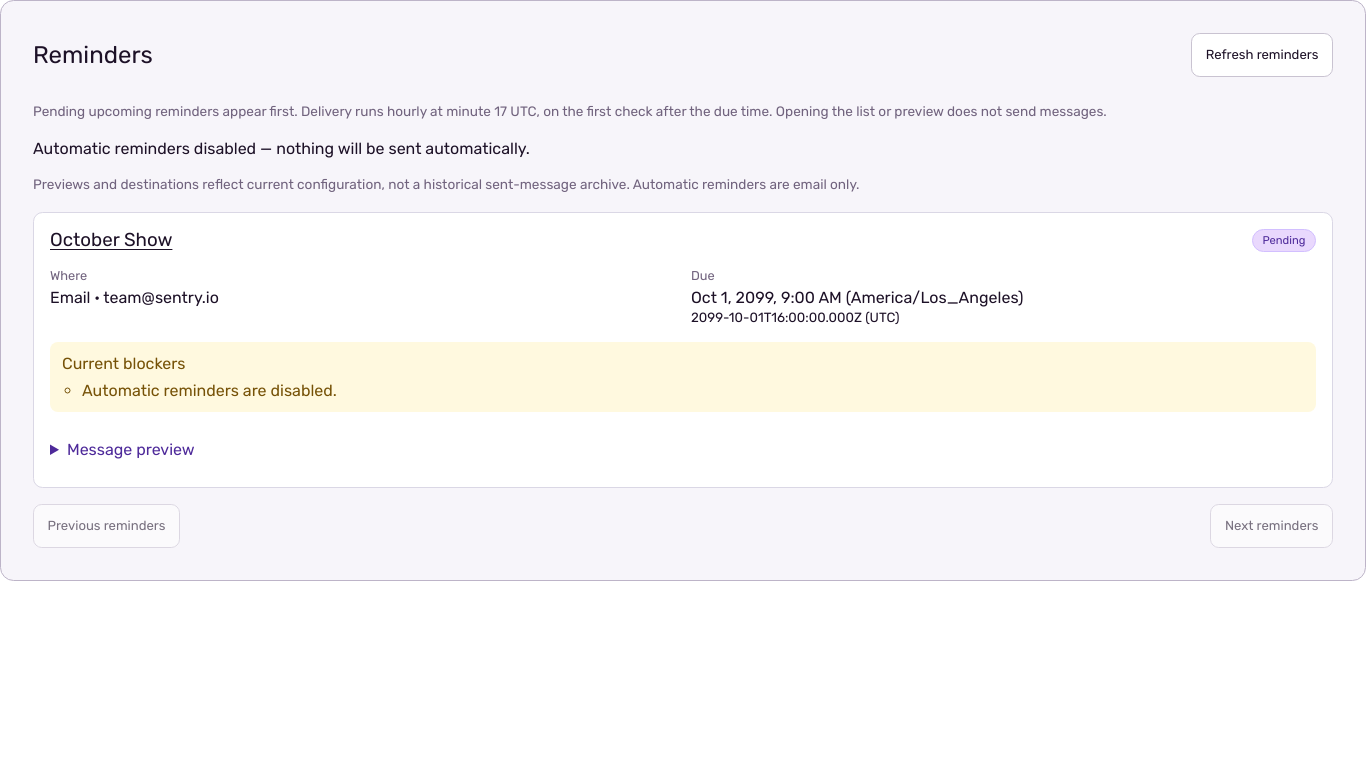
it: shows when, where, status, disabled state and message preview
Expected: the text "Email · team@sentry.io" is shown, [50, 288, 219, 307]
Expected: the text "Pending" is shown, [1252, 228, 1316, 252]
Click the heading "Message preview" at [131, 449], box [67, 440, 195, 459]
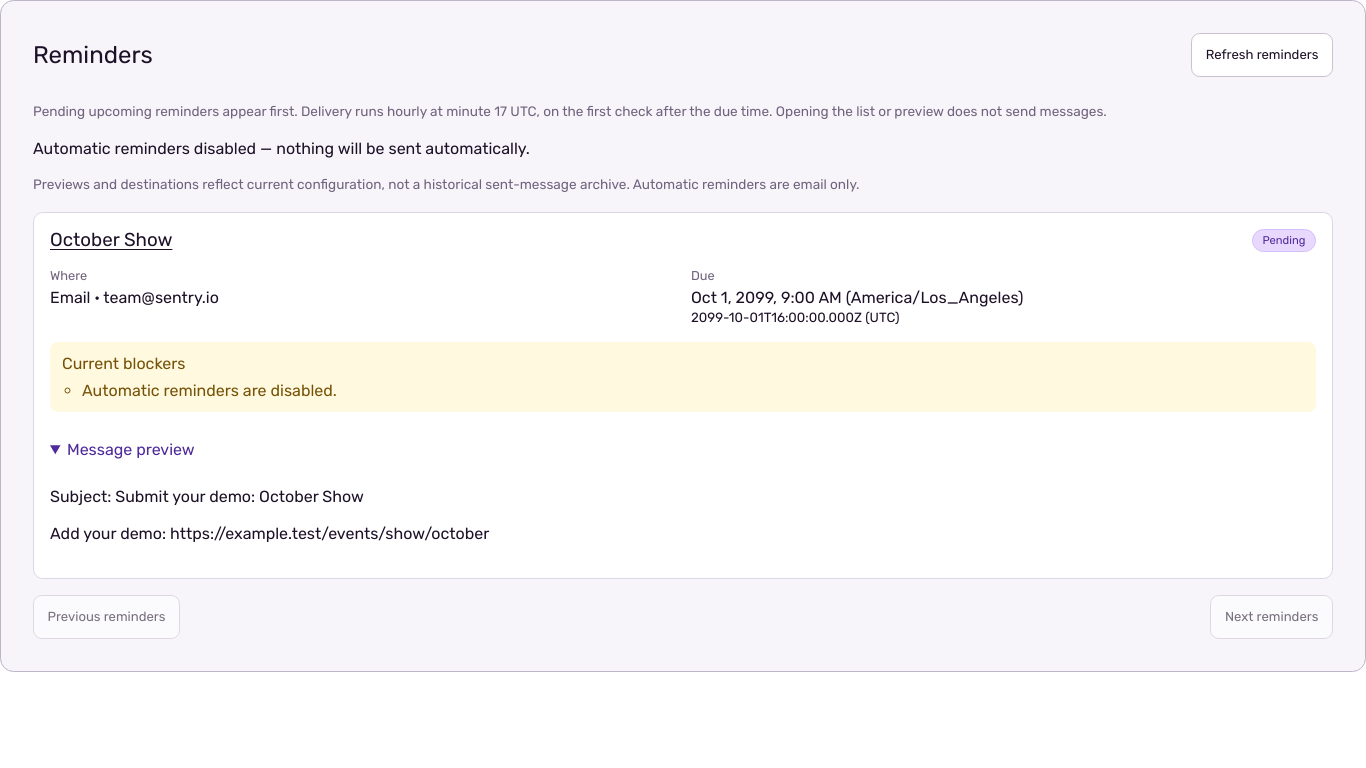
Now the text "Add your demo: https://example.test/events/show/october" is shown, box [50, 524, 489, 543]
Now the text "Submit your demo: October Show" is shown, box [115, 487, 364, 506]
